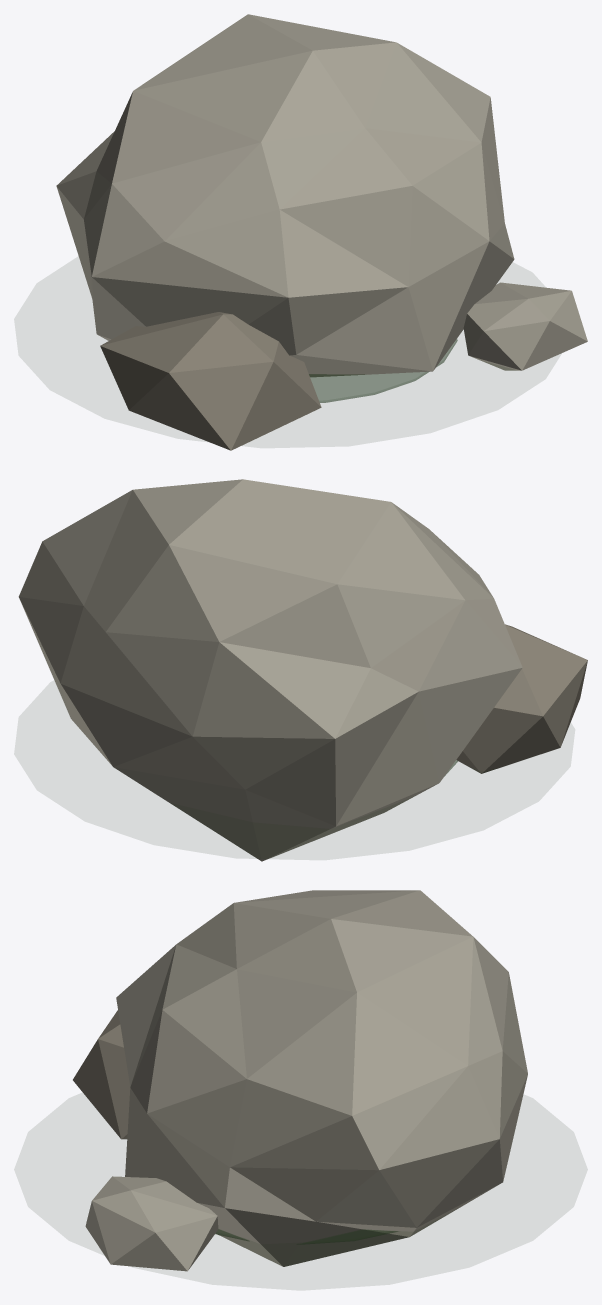
The model's file is rock.glb.
The picture shows the model from 3 angles, top to bottom: view 1: azimuth 30°, elevation 25°; view 2: azimuth 150°, elevation 25°; view 3: azimuth 270°, elevation 25°; orthographic projection. The views are drawn at different scales.
Parts seen in each view (by area): view 1: rock; view 2: rock; view 3: rock.
Boxes of the visible parts, x1,y1,x2,y2 form: rock: (56, 14, 587, 450); rock: (18, 479, 587, 861); rock: (73, 890, 527, 1271).
Bounding box in the file's own units: 1.04 × 0.6306 × 1.04.
